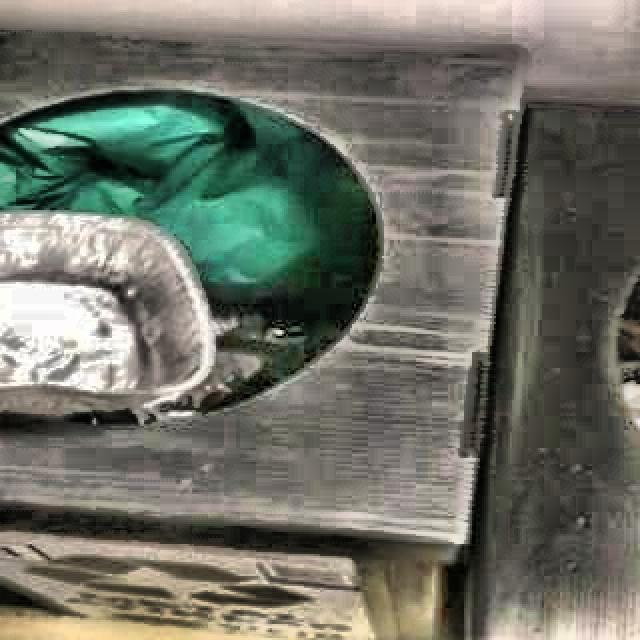metal: (0, 212, 216, 399)
